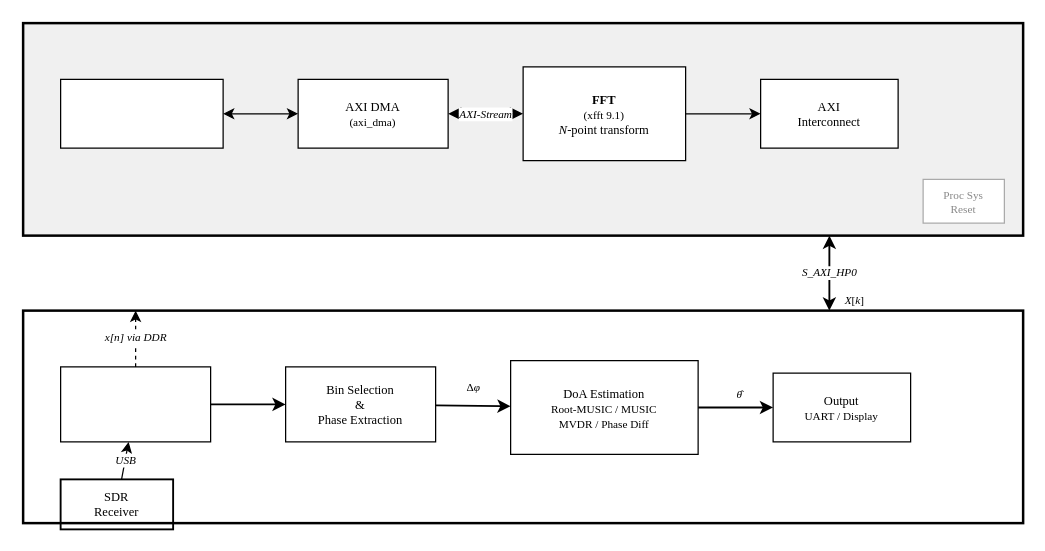
Some shapes in this 1045 by 551 pixel diagram are drawn without their labels. Each missing label, with the box of its shape:
Processing System (PS) — ARM Cortex-A9: (21, 309, 1024, 524)
Programmable Logic (PL): (21, 21, 1024, 236)
PS7 (processing_system7): (59, 78, 223, 148)
USB Host (SoapySDR) I/Q Acquisition: (59, 366, 211, 442)
